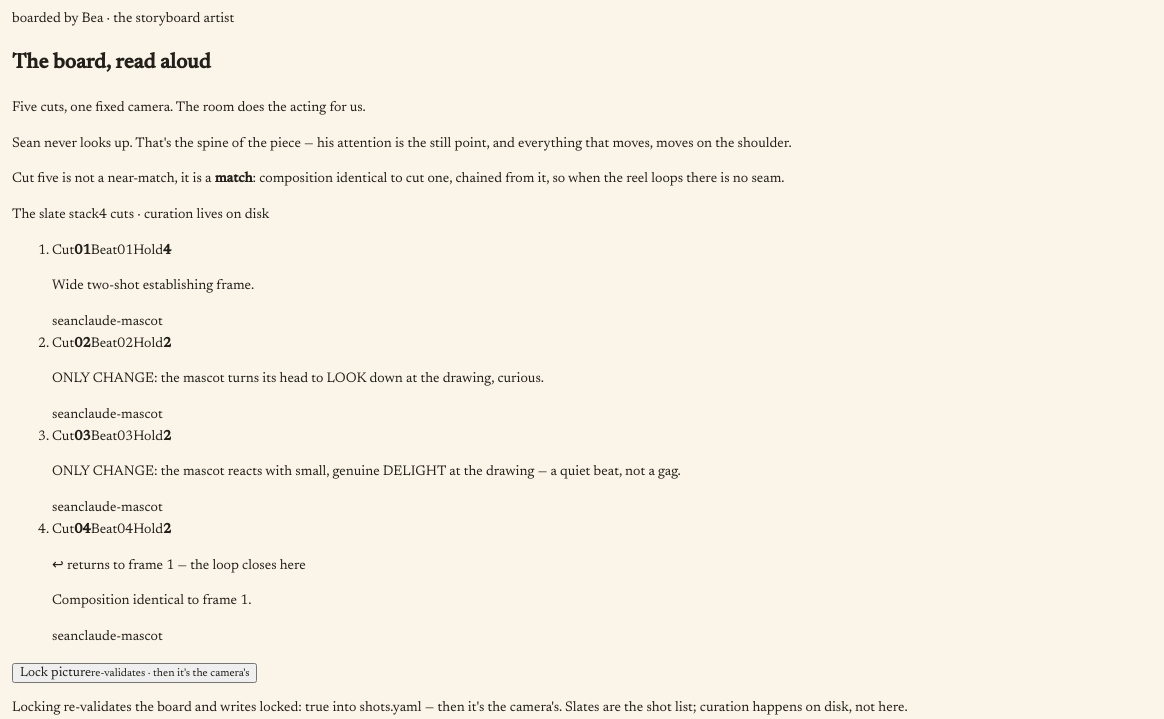
Test: StoryboardGate — Lock picture -> leader -> terminal (U3's hook, wired) › a POST-level refusal (422) stays the DISTINCT generic error state, not invalid-lock
(page scrolled)
Expected: the text "Five cuts, one fixed camera" is shown, [12,101,366,115]
Click the button "Lock picture" at (135, 673), box [12,663,257,683]
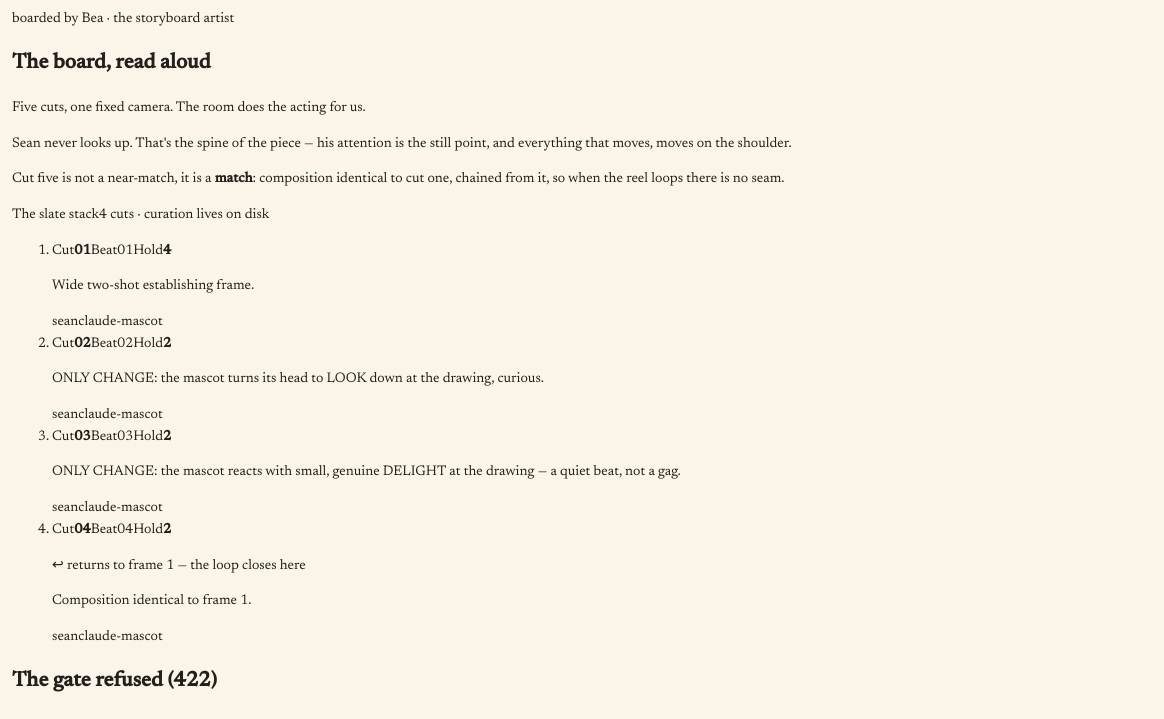
Expected: the heading "The gate refused (422)" is shown, [12,671,217,692]
